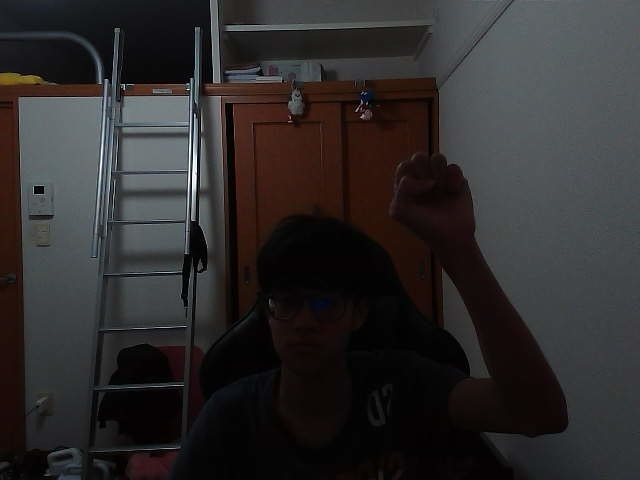closed_palm: (404, 157, 456, 237)
